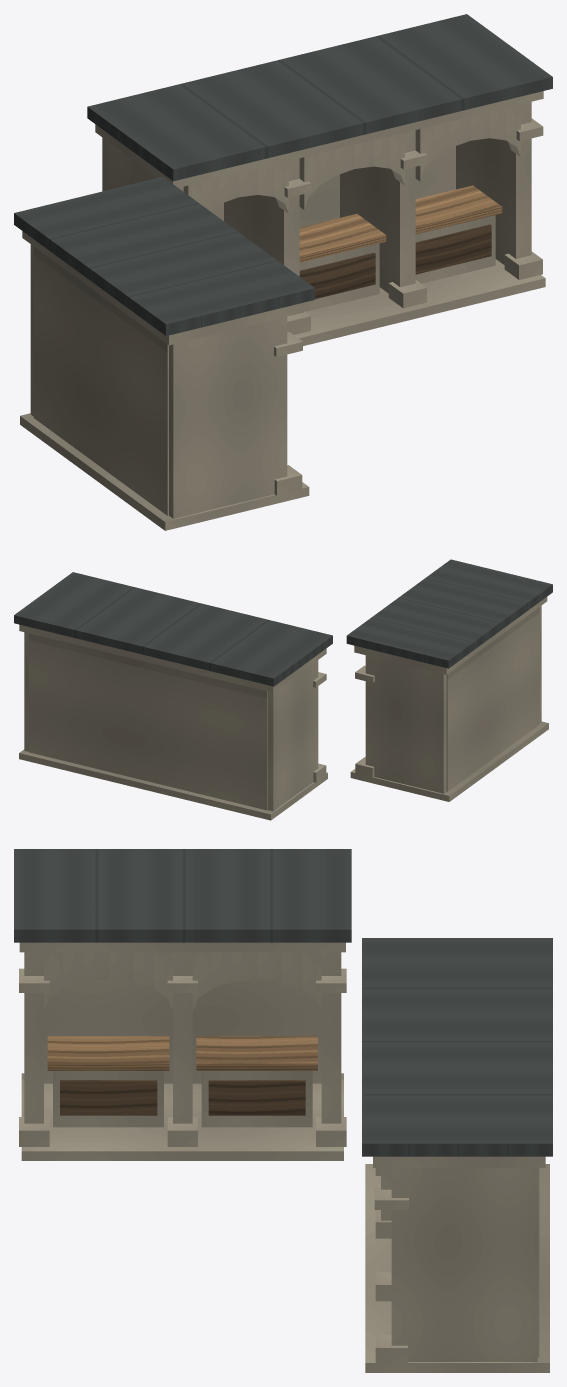
File: nouakchott.glb
3 renders of one model, top to bottom at view 1: azimuth 30°, elevation 25°; view 2: azimuth 150°, elevation 25°; view 3: azimuth 270°, elevation 25°, orthographic. The views are drawn at different scales.
Parts seen in each view (by area): view 1: nouakchott; view 2: nouakchott; view 3: nouakchott.
Boxes of the visible parts, x1,y1,x2,y2 form: nouakchott: (14,14,552,530); nouakchott: (14,559,552,820); nouakchott: (14,849,552,1372).
Bounding box in the file's own units: 6.79 × 2.5 × 5.25.
1 material, 1 textured.
